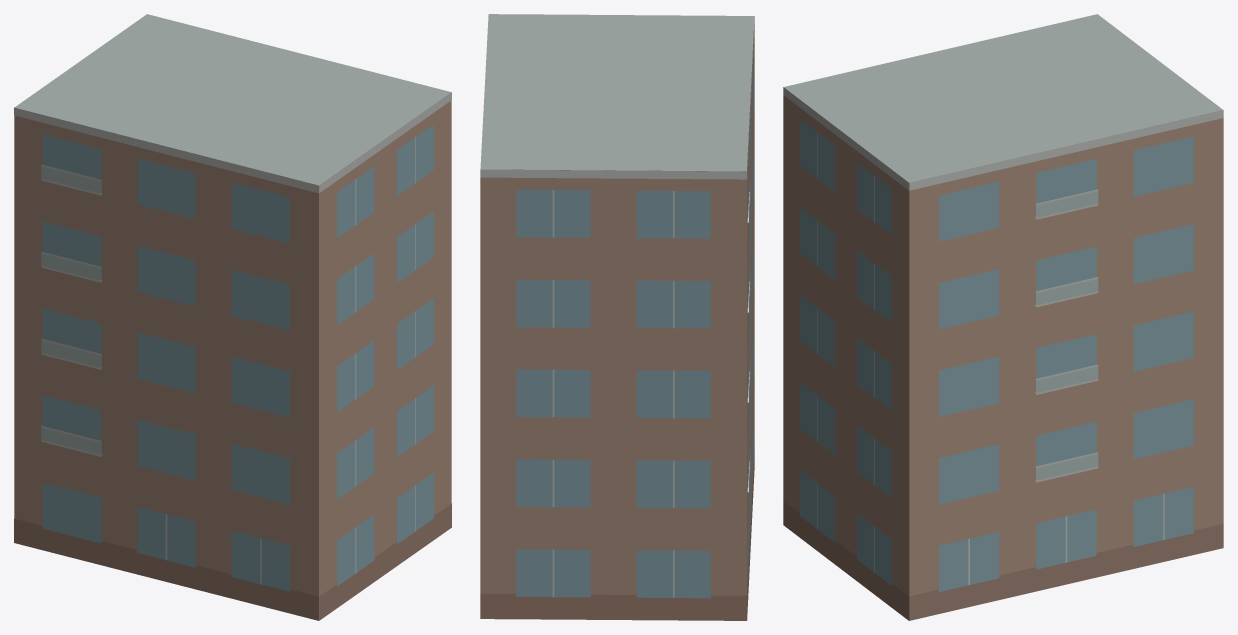
Rendered from survey-upis-32716748.glb.
3 views of the same model, side by side, from view 1: azimuth 30°, elevation 25°; view 2: azimuth 150°, elevation 25°; view 3: azimuth 270°, elevation 25° (orthographic). The views are drawn at different scales.
Visible parts, largest first — view 1: survey-upis-32716748.tmp; view 2: survey-upis-32716748.tmp; view 3: survey-upis-32716748.tmp.
Part boxes in pixels (left/top/right/bottom): survey-upis-32716748.tmp: left=14, top=14, right=451, bottom=620; survey-upis-32716748.tmp: left=480, top=14, right=754, bottom=620; survey-upis-32716748.tmp: left=783, top=14, right=1223, bottom=620.
Bounding box in the file's own units: 11.14 × 13.46 × 12.27.
